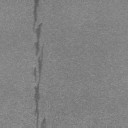red iron: (32, 0, 44, 128), (41, 118, 46, 128)
